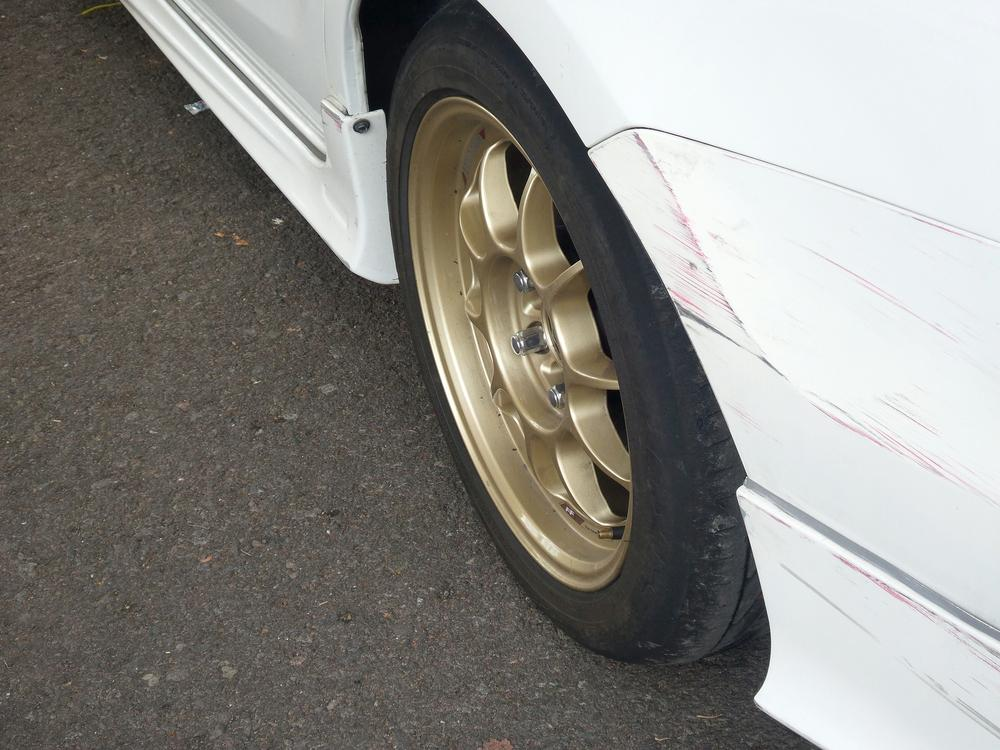scratch: (632, 131, 1000, 536), (749, 494, 1000, 743)
